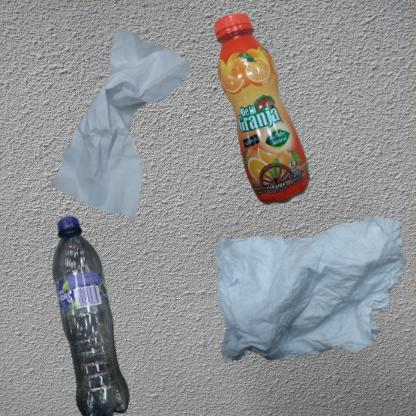botella: (10, 213, 189, 416), (213, 10, 314, 213)
papel: (10, 10, 247, 262), (213, 213, 412, 364)
